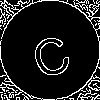C: (25, 25, 75, 81)
